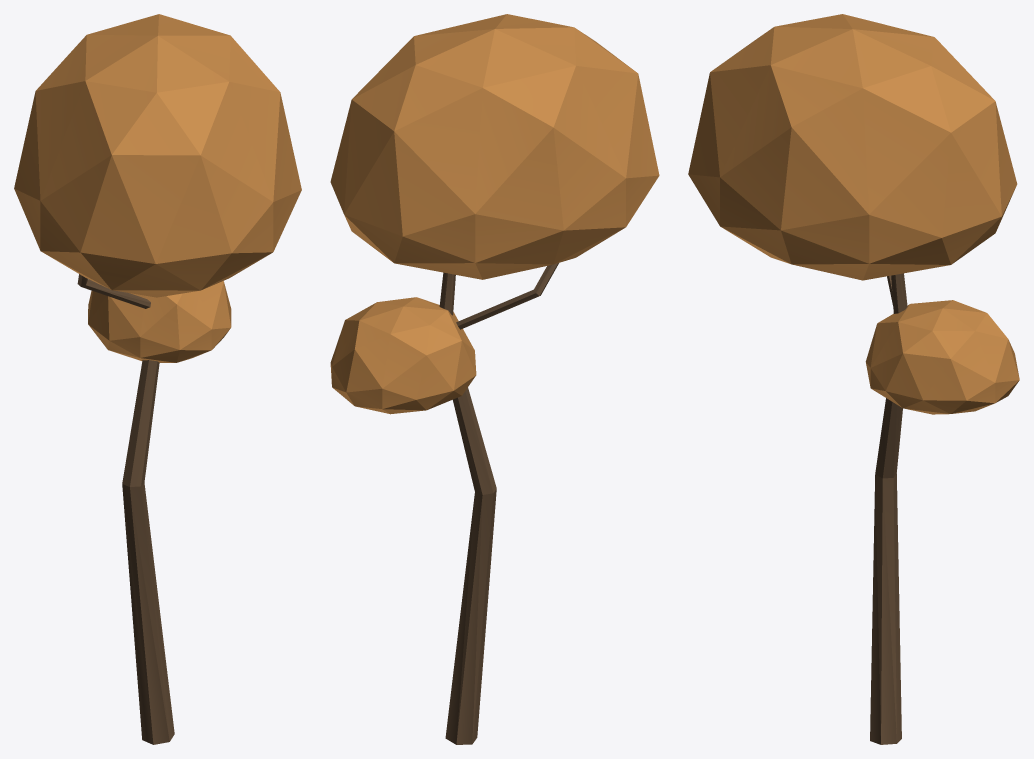
Rendered from tree_orange_4.glb.
The picture shows the model from 3 angles, left to right: view 1: azimuth 30°, elevation 25°; view 2: azimuth 150°, elevation 25°; view 3: azimuth 270°, elevation 25°; orthographic projection. The views are drawn at different scales.
Parts seen in each view (by area): view 1: Tree Yellow 4.393; view 2: Tree Yellow 4.393; view 3: Tree Yellow 4.393.
Boxes of the visible parts, <box> form: Tree Yellow 4.393: <box>14,14,301,744</box>; Tree Yellow 4.393: <box>330,14,659,744</box>; Tree Yellow 4.393: <box>688,14,1019,744</box>.
Size of the model in its own units: 0.1443 by 0.3939 by 0.1682.
